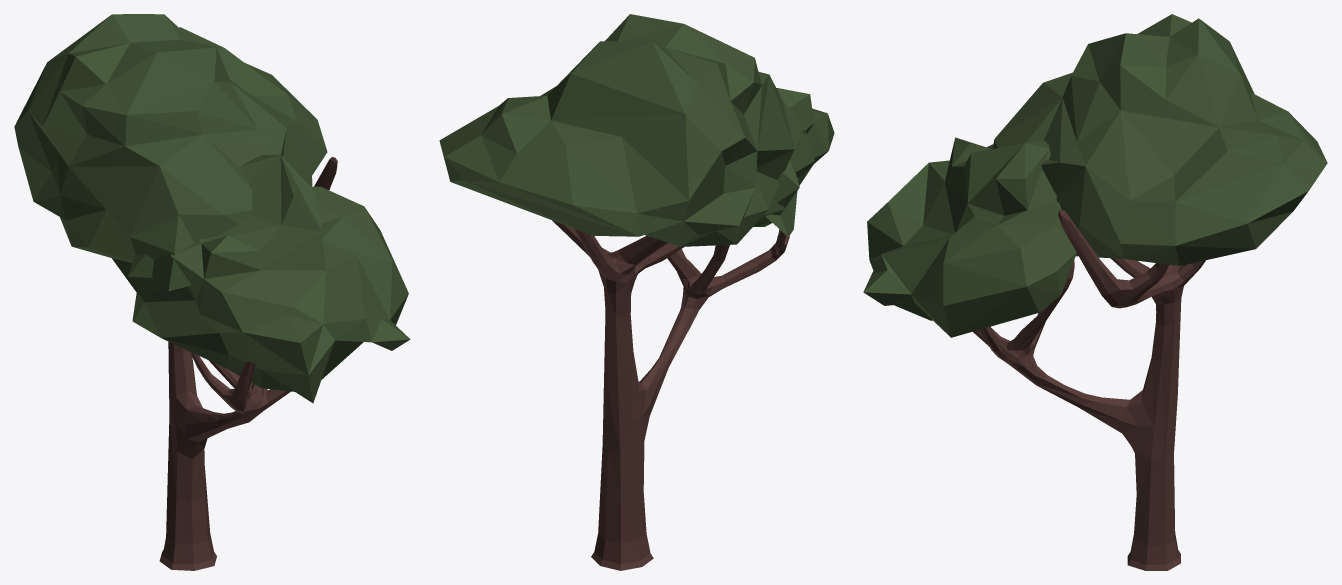
File: CommonTree_2.glb
The picture shows the model from 3 angles, left to right: view 1: azimuth 30°, elevation 25°; view 2: azimuth 150°, elevation 25°; view 3: azimuth 270°, elevation 25°; orthographic projection. The views are drawn at different scales.
Parts seen in each view (by area): view 1: CommonTree_2; view 2: CommonTree_2; view 3: CommonTree_2.
Part boxes in pixels (box(x1,y1,x2,y2)): CommonTree_2: box(14, 14, 410, 570); CommonTree_2: box(439, 14, 834, 570); CommonTree_2: box(863, 14, 1327, 570).
Bounding box in the file's own units: 1.66 × 3.12 × 2.54.
